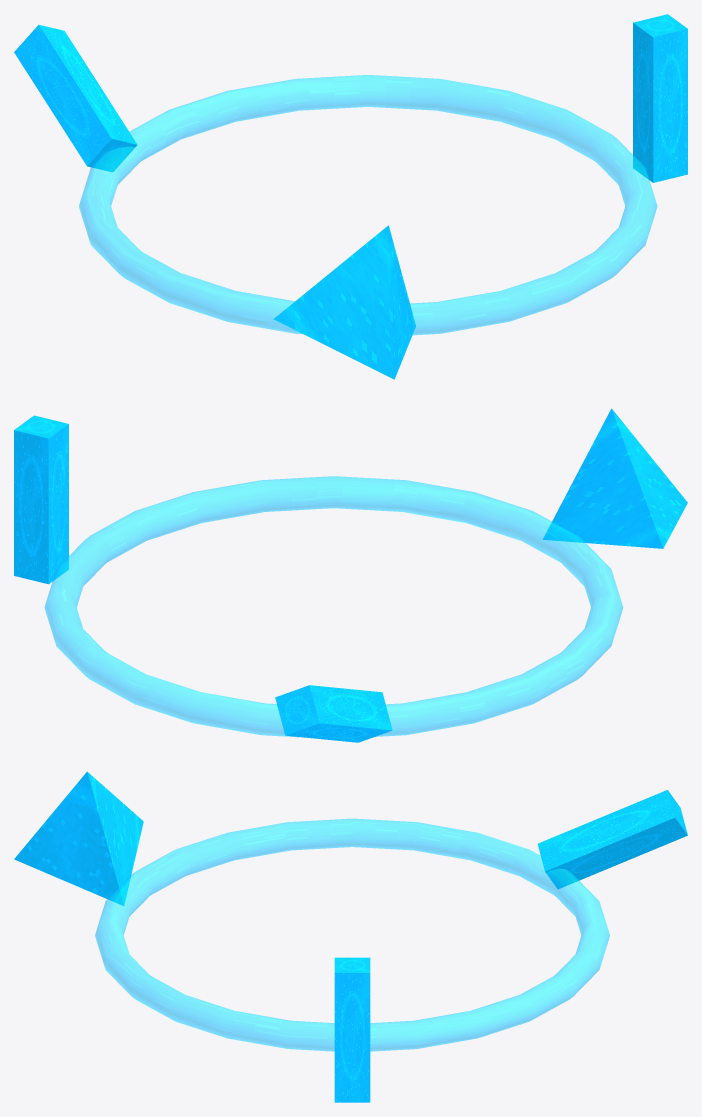
Rendered from story-marker-cyan.glb.
The picture shows the model from 3 angles, top to bottom: view 1: azimuth 30°, elevation 25°; view 2: azimuth 150°, elevation 25°; view 3: azimuth 270°, elevation 25°; orthographic projection. The views are drawn at different scales.
Visible parts, largest first — view 1: story-marker-cyan-transparent|#00ccff|#00ccff|0.38|1|0.04|0., story-marker-cyan-body; view 2: story-marker-cyan-transparent|#00ccff|#00ccff|0.38|1|0.04|0., story-marker-cyan-body; view 3: story-marker-cyan-transparent|#00ccff|#00ccff|0.38|1|0.04|0., story-marker-cyan-body.
Part boxes in pixels (box(x1,y1,x2,y2)): story-marker-cyan-transparent|#00ccff|#00ccff|0.38|1|0.04|0.: box(79, 75, 657, 335); story-marker-cyan-body: box(14, 14, 687, 379); story-marker-cyan-transparent|#00ccff|#00ccff|0.38|1|0.04|0.: box(44, 476, 623, 737); story-marker-cyan-body: box(14, 408, 687, 742); story-marker-cyan-transparent|#00ccff|#00ccff|0.38|1|0.04|0.: box(95, 818, 609, 1051); story-marker-cyan-body: box(14, 771, 687, 1102).
Size of the model in its own units: 0.805 by 0.2171 by 0.942.
2 materials, 2 textured.
